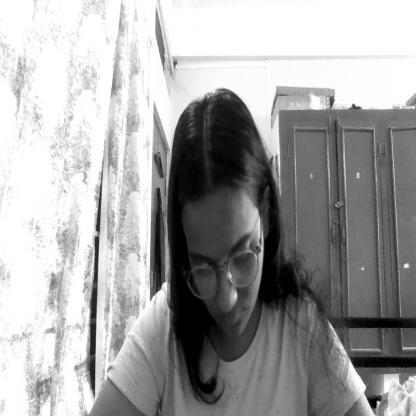Distracted: (173, 112, 271, 341)
